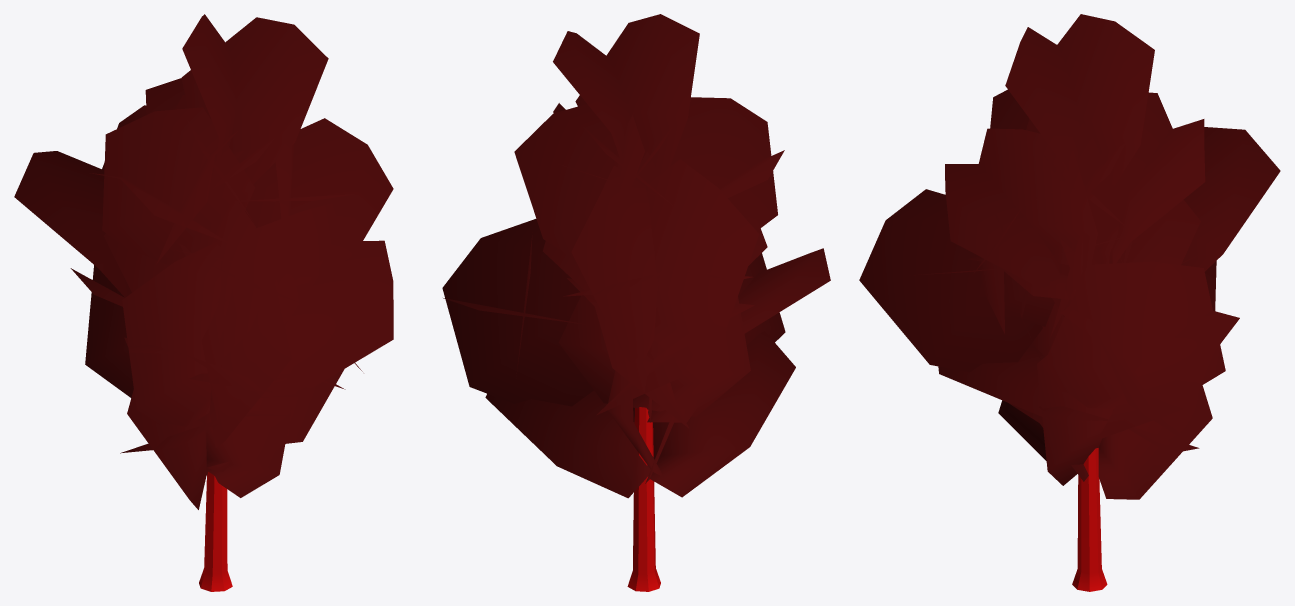
File: SM_Tree_Birch_Small_01.gltf
3 views of the same model, side by side, from view 1: azimuth 30°, elevation 25°; view 2: azimuth 150°, elevation 25°; view 3: azimuth 270°, elevation 25° (orthographic).
Visible parts, largest first — view 1: SM_Tree_Birch_Small_01; view 2: SM_Tree_Birch_Small_01; view 3: SM_Tree_Birch_Small_01.
Part boxes in pixels (<box>): SM_Tree_Birch_Small_01: <box>14,14,393,591</box>; SM_Tree_Birch_Small_01: <box>442,14,830,591</box>; SM_Tree_Birch_Small_01: <box>859,14,1280,591</box>.
Bounding box in the file's own units: 1.17 × 1.88 × 1.27.
